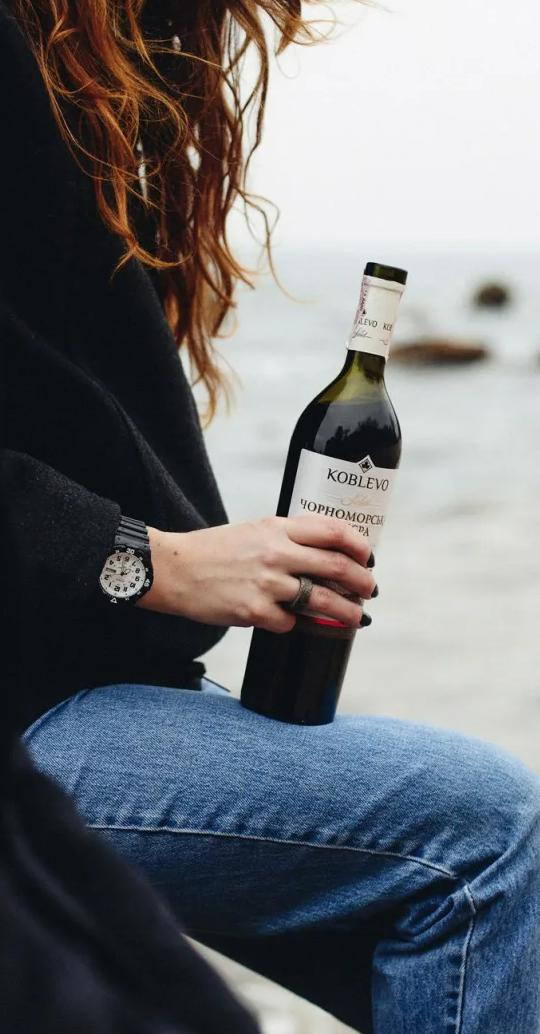wine bottle: (238, 263, 410, 728)
wine label: (276, 445, 396, 624)
